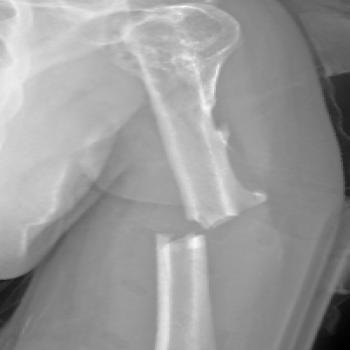Fracture: (141, 207, 248, 245)
